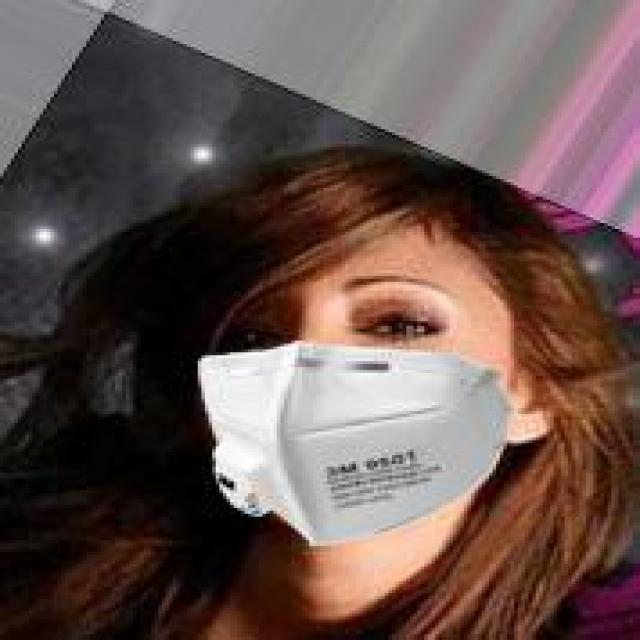mask: (173, 197, 593, 552)
